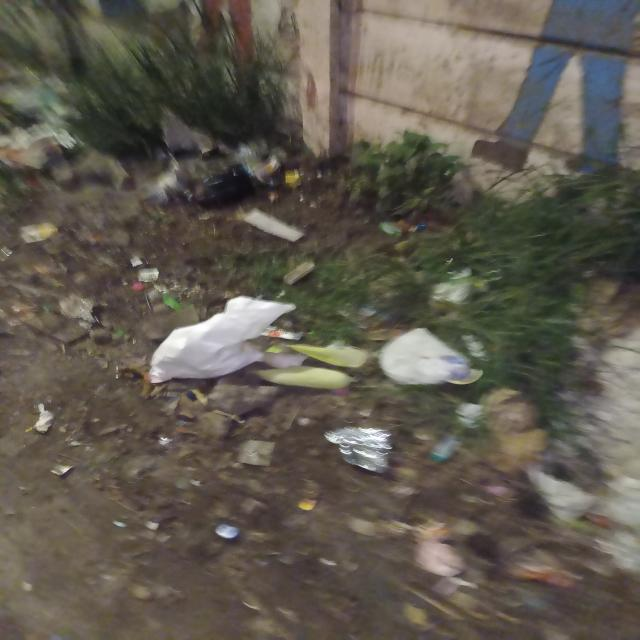garbage: (156, 283, 528, 514), (5, 56, 302, 259)
